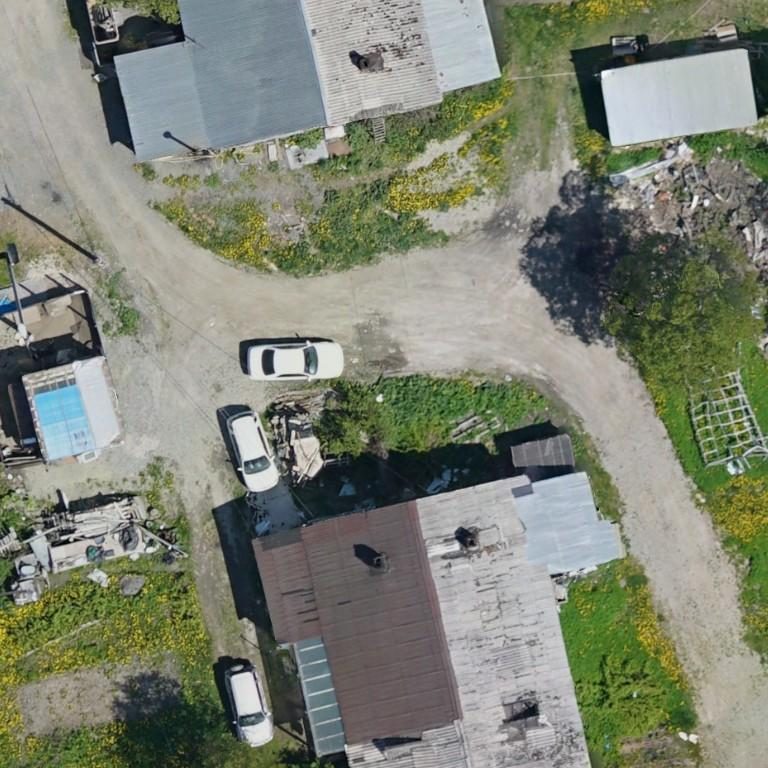hogweed: (373, 374, 529, 422), (687, 134, 731, 160)
